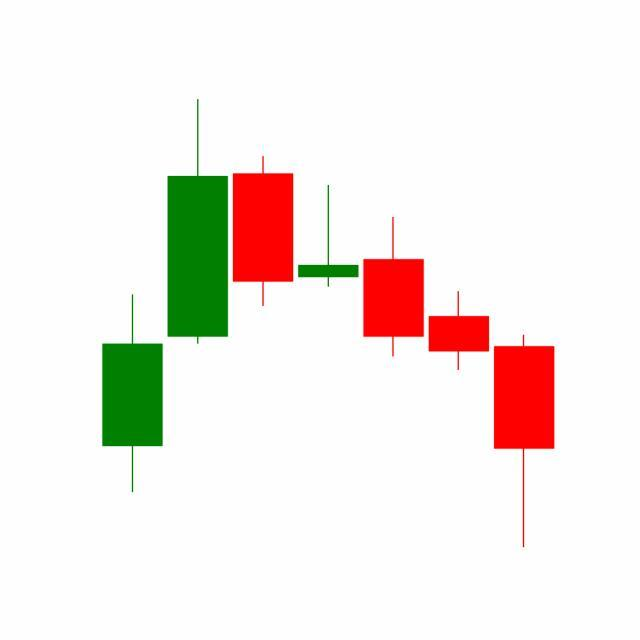Three Outside Up-Down: (295, 183, 492, 373)
